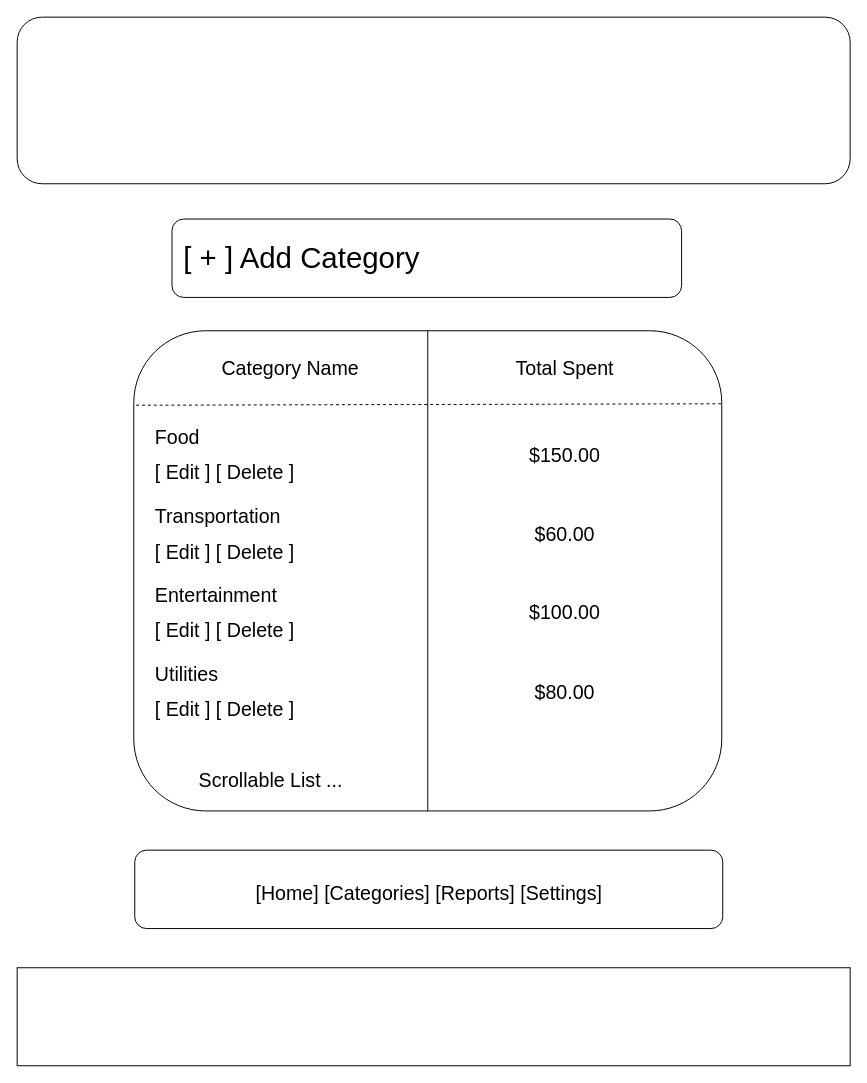
This 867x1083 diagram has some shape labels left out. Here are the shapes that lost their labels. From the top down, the centre of each, then its label:
(433,100): TrackIt
(433,1016): Lorem Ipsum
